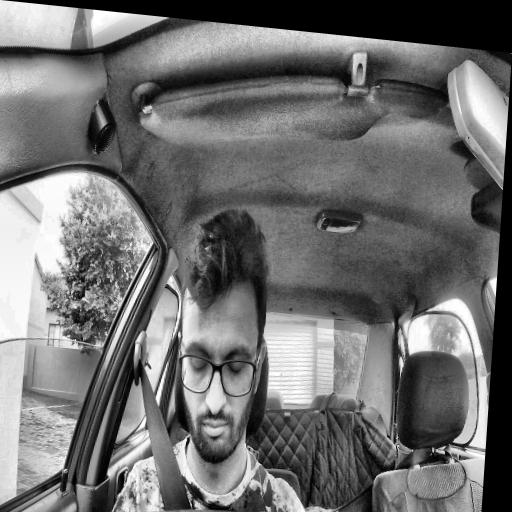drowsy: (168, 205, 275, 468)
